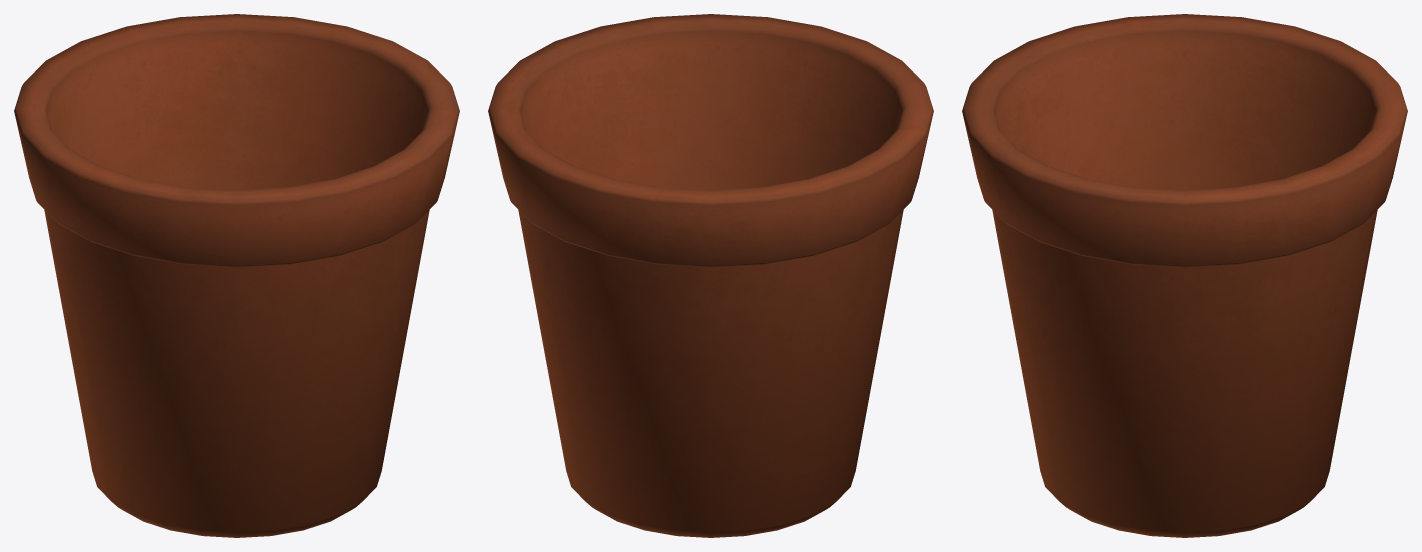
File: terracotta_pot 2.glb
3 views of the same model, side by side, from view 1: azimuth 30°, elevation 25°; view 2: azimuth 150°, elevation 25°; view 3: azimuth 270°, elevation 25° (orthographic).
Visible parts, largest first — view 1: SM_plant_pot.001; view 2: SM_plant_pot.001; view 3: SM_plant_pot.001.
Boxes of the visible parts, x1=… form: SM_plant_pot.001: x1=14, y1=14, x2=459, y2=537; SM_plant_pot.001: x1=488, y1=14, x2=933, y2=537; SM_plant_pot.001: x1=962, y1=14, x2=1407, y2=537.
Size of the model in its own units: 18.2 by 16.93 by 18.2.
1 material, 1 textured.
